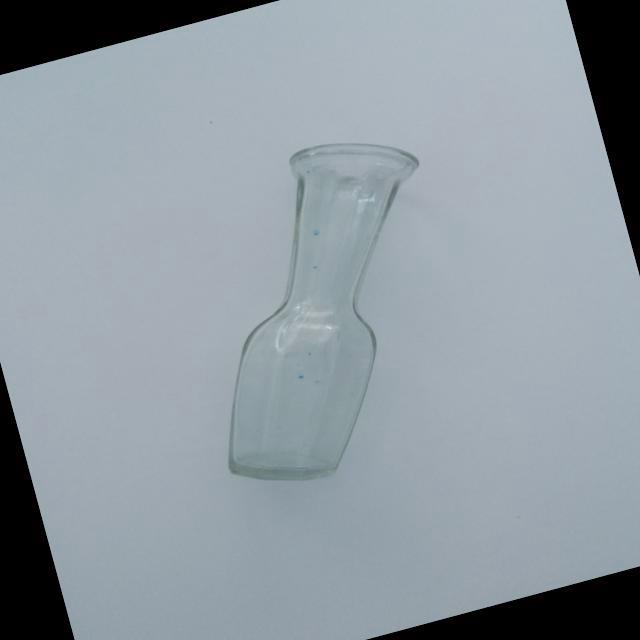glass: (132, 107, 508, 513)
